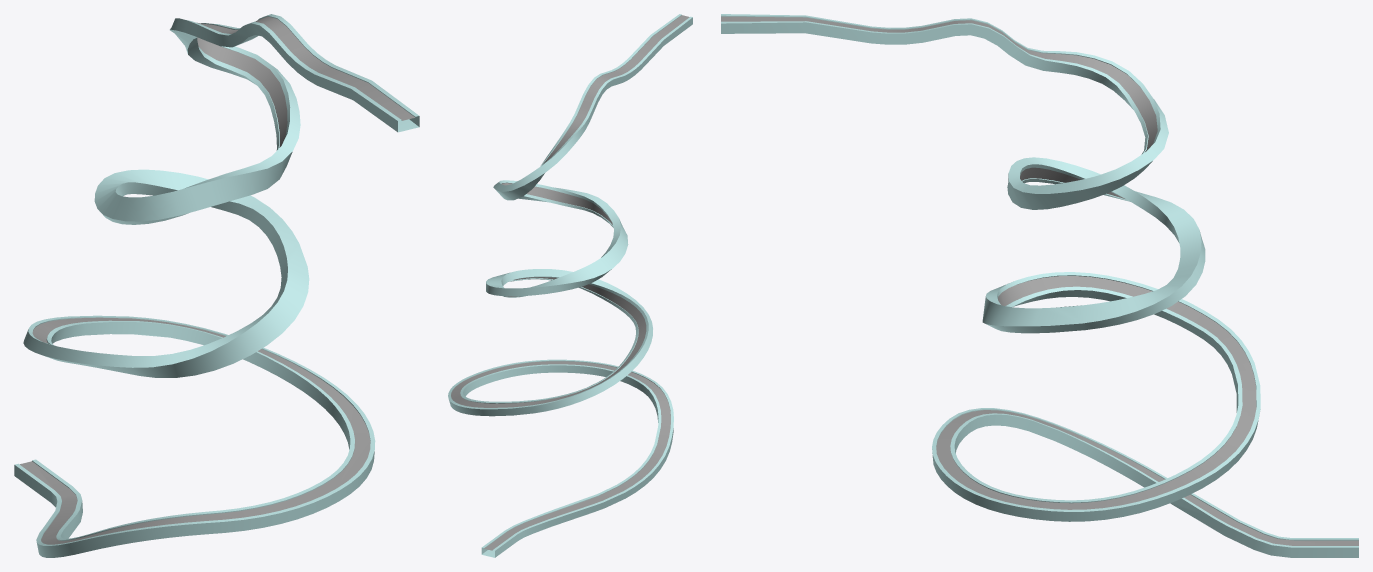
File: spiral.fbx
The picture shows the model from 3 angles, left to right: view 1: azimuth 30°, elevation 25°; view 2: azimuth 150°, elevation 25°; view 3: azimuth 270°, elevation 25°; orthographic projection. The views are drawn at different scales.
Parts seen in each view (by area): view 1: spiral; view 2: spiral; view 3: spiral.
Boxes of the visible parts, bbox=[...] form: spiral: bbox=[14, 14, 419, 557]; spiral: bbox=[448, 14, 692, 557]; spiral: bbox=[721, 14, 1358, 557].
Size of the model in its own units: 2899 by 5446 by 5726.
